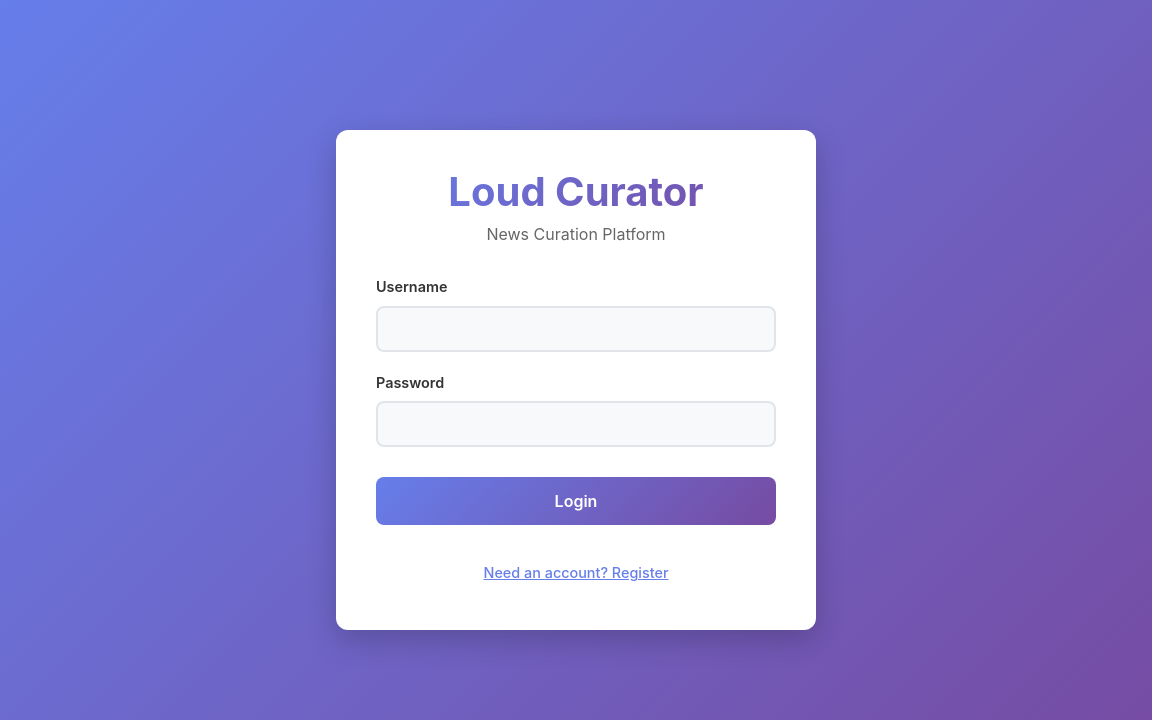
Login Component › Login Functionality › shows loading state during login
This screenshot has width=1152, height=720.
Type "testuser" into the field labelled "Username" at (576, 329), box top-left (376, 306), bottom-right (776, 352)
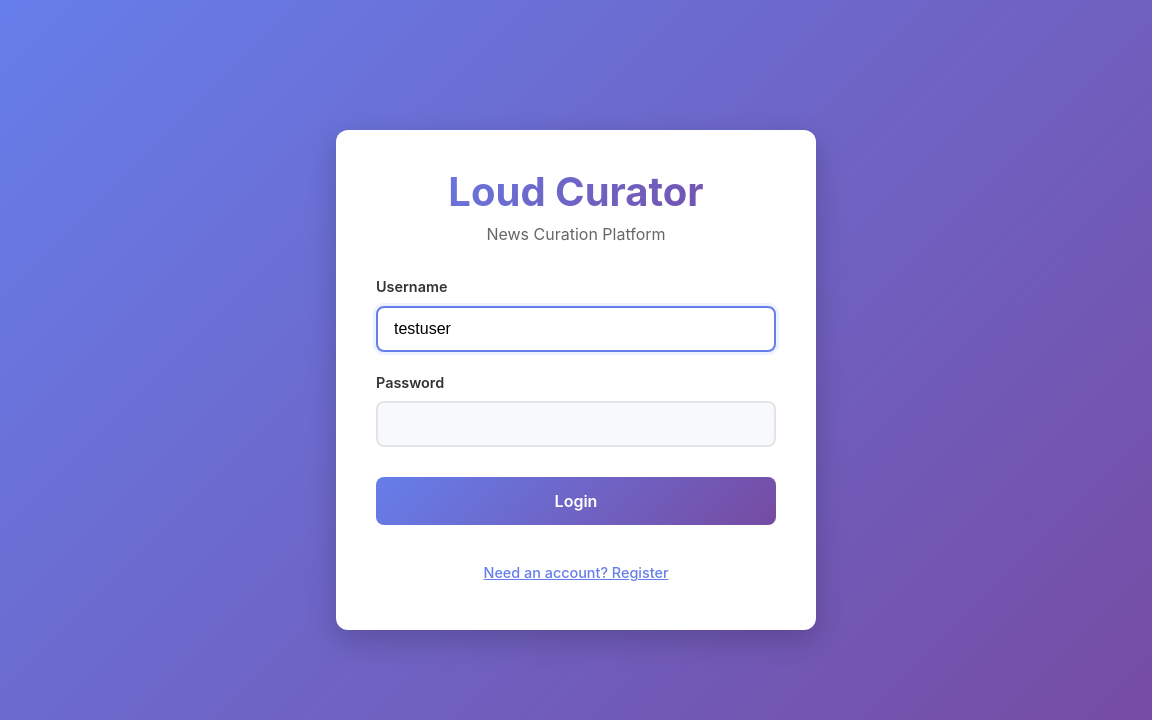
Type "testpass123" into the password field labelled "Password" at (576, 424), box top-left (376, 402), bottom-right (776, 448)
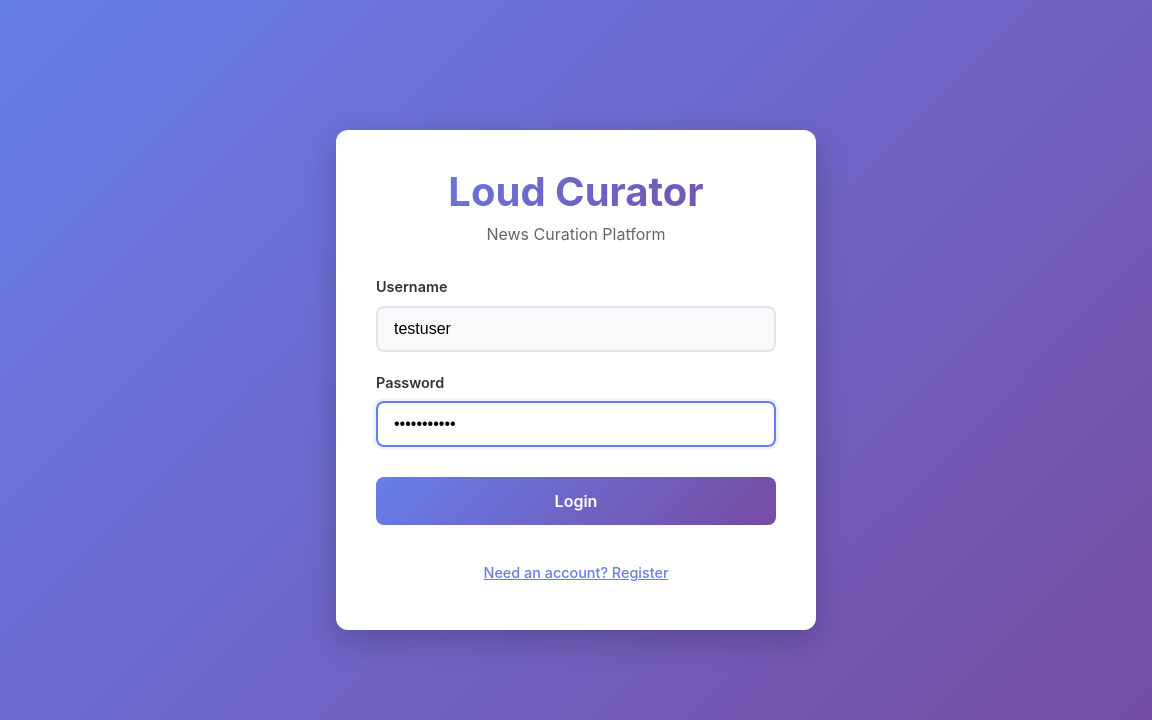
Click the button "Login" at (576, 502), box top-left (376, 478), bottom-right (776, 526)
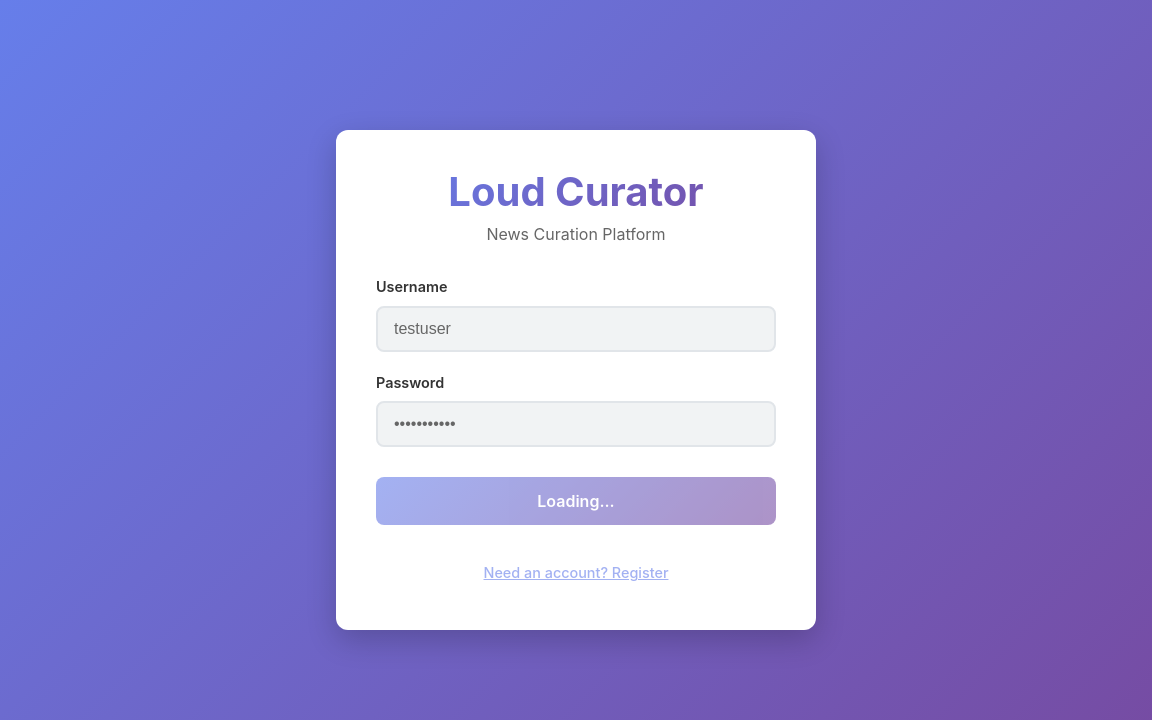
Expected: the button "Loading..." is disabled, top-left (376, 478), bottom-right (776, 526)
